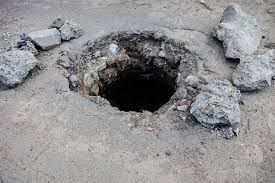Manhole-Open: (71, 34, 215, 127)
